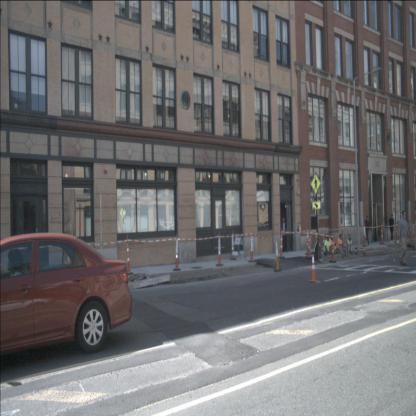cone: (126, 234, 134, 275), (309, 254, 318, 284), (174, 233, 181, 271), (216, 232, 223, 266), (274, 236, 280, 272), (330, 238, 336, 264), (305, 231, 311, 254), (250, 229, 254, 262), (231, 229, 235, 261), (307, 236, 311, 260), (280, 234, 284, 258), (362, 227, 367, 246), (322, 229, 326, 252), (395, 224, 399, 244), (380, 224, 384, 244), (410, 223, 414, 242), (413, 232, 416, 250), (341, 228, 344, 245)
